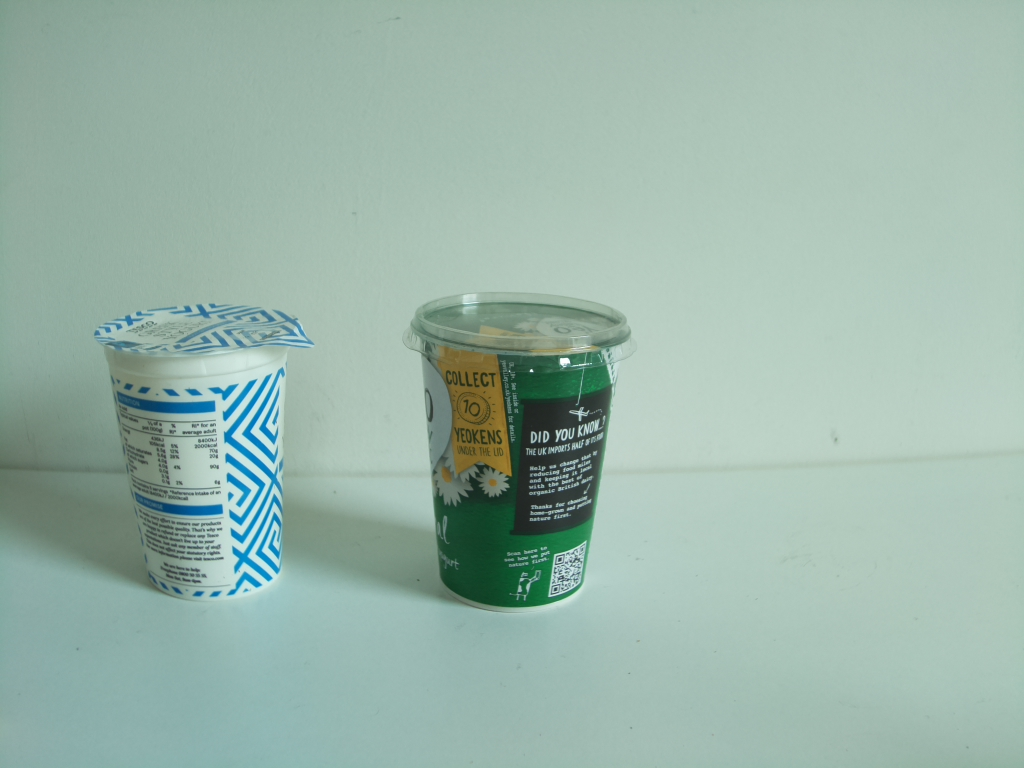yogurt: (398, 289, 640, 614), (89, 294, 312, 608)
